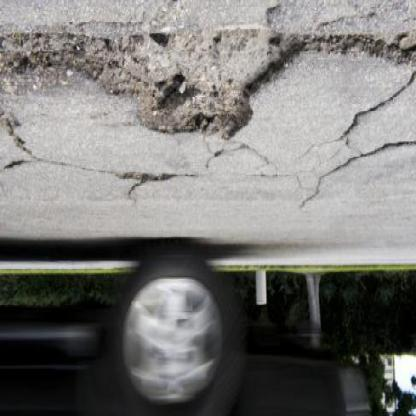pothole: (67, 23, 310, 148)
